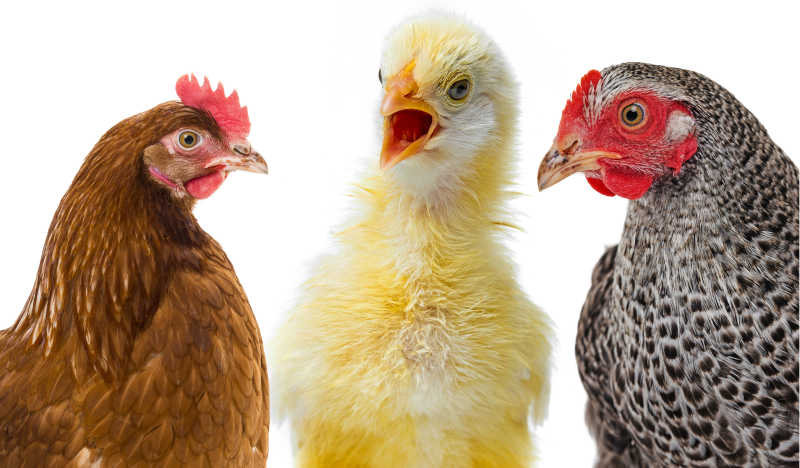chicken: (536, 53, 799, 468), (1, 69, 274, 468)
hen: (272, 4, 557, 468)
